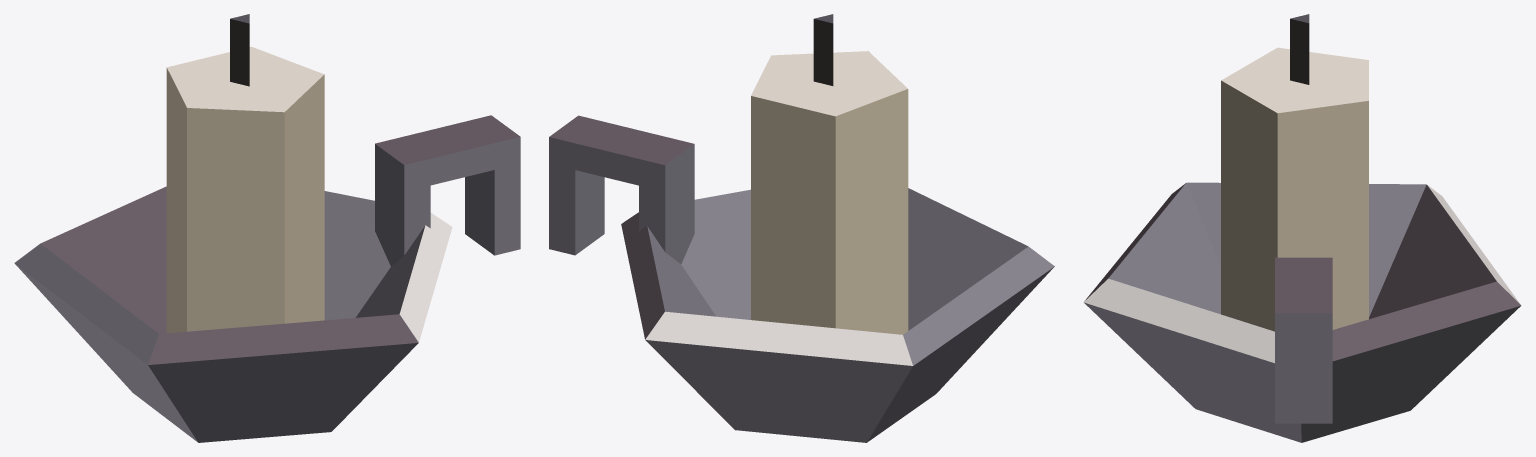
Rendered from TB_Prop_Candle_D.FBX.
3 renders of one model, left to right at view 1: azimuth 30°, elevation 25°; view 2: azimuth 150°, elevation 25°; view 3: azimuth 270°, elevation 25°, orthographic.
Visible parts, largest first — view 1: TB_Prop_Candle_D; view 2: TB_Prop_Candle_D; view 3: TB_Prop_Candle_D.
Boxes of the visible parts, left/top/right/bottom form: TB_Prop_Candle_D: left=14, top=14, right=520, bottom=442; TB_Prop_Candle_D: left=549, top=14, right=1054, bottom=442; TB_Prop_Candle_D: left=1083, top=14, right=1521, bottom=442.
Size of the model in its own units: 0.5589 by 0.479 by 0.5081.
